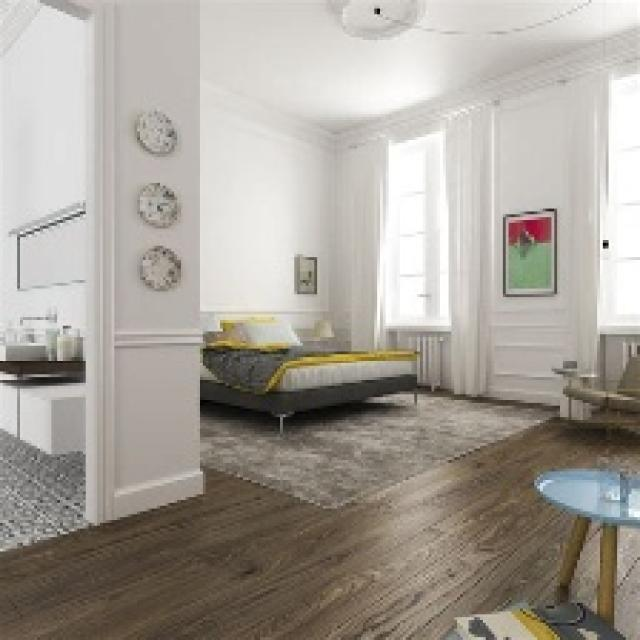Bed: (197, 323, 420, 431)
